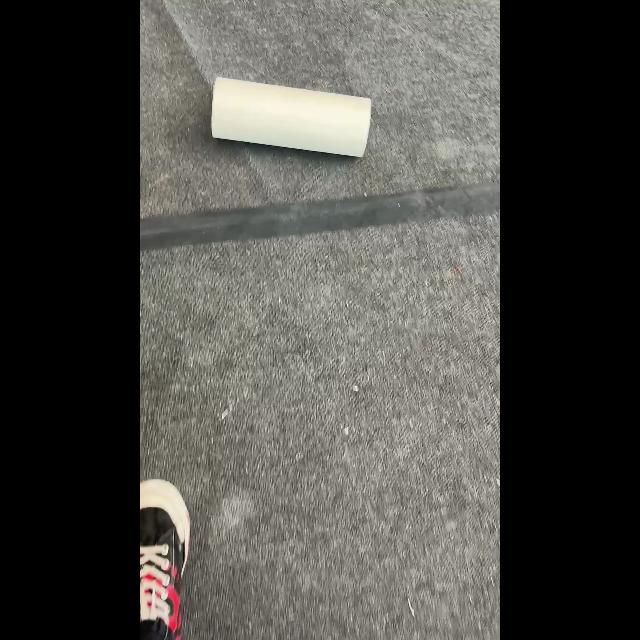CORAL: (210, 76, 372, 158)
